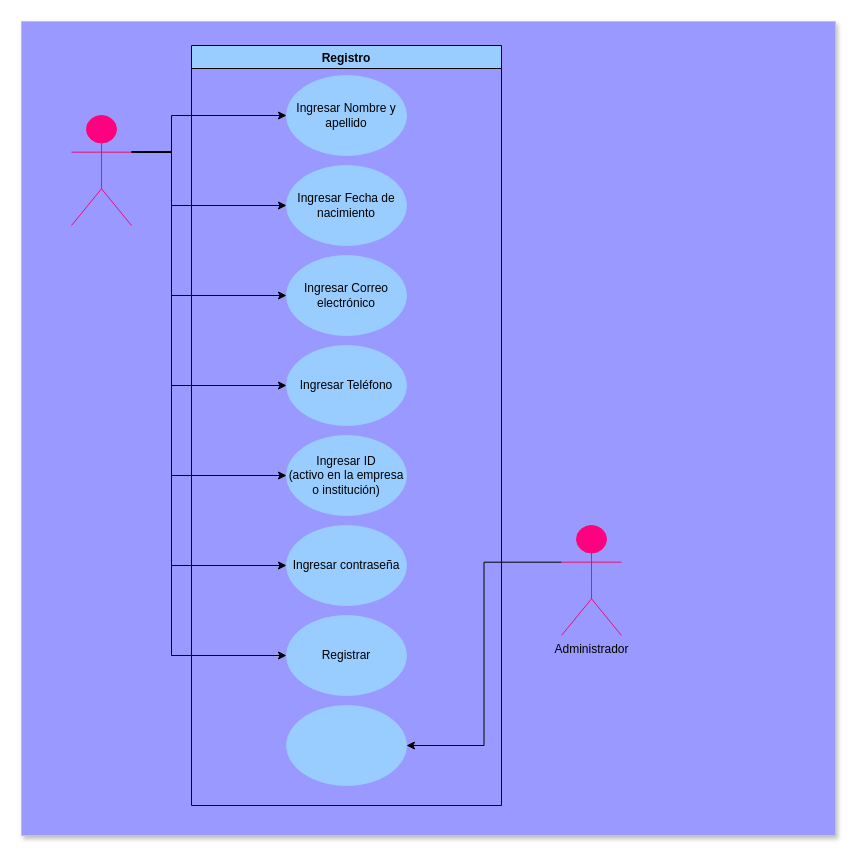
Image size: 859x860. Some labels were removed from this diagram. Each missing label, with the centre of its shape:
"Aceptar registro" belongs at (346,745).
"Usuario" belongs at (101,170).
